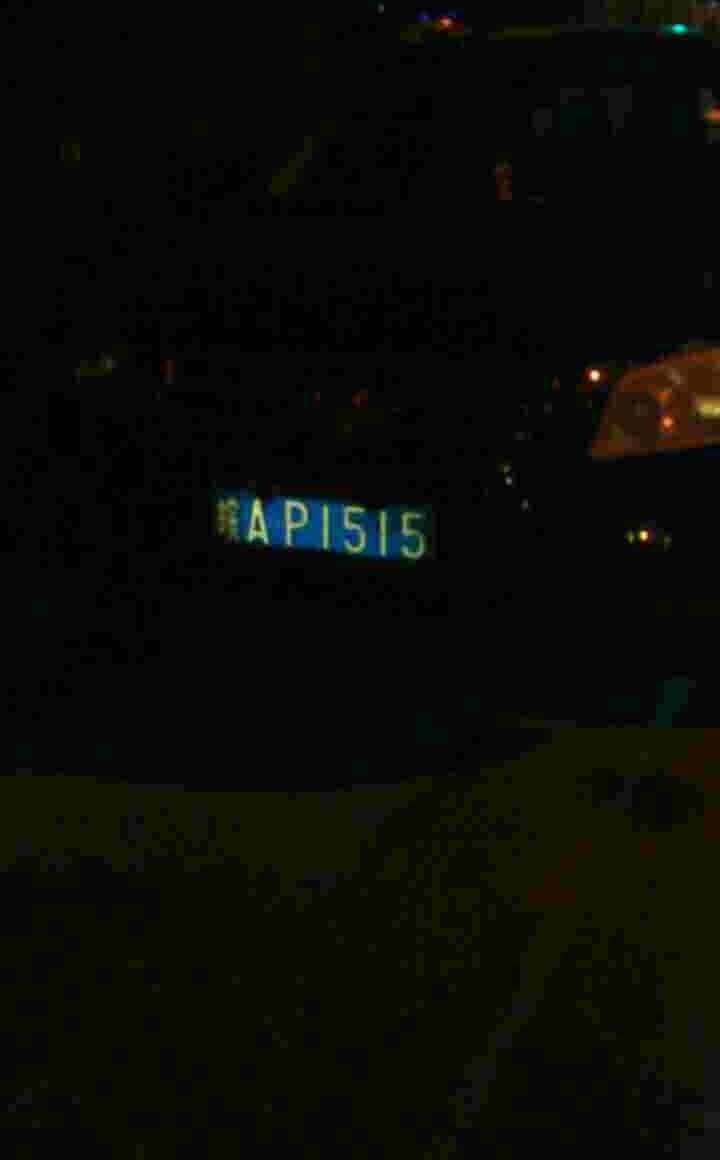car: (204, 475, 444, 570)
